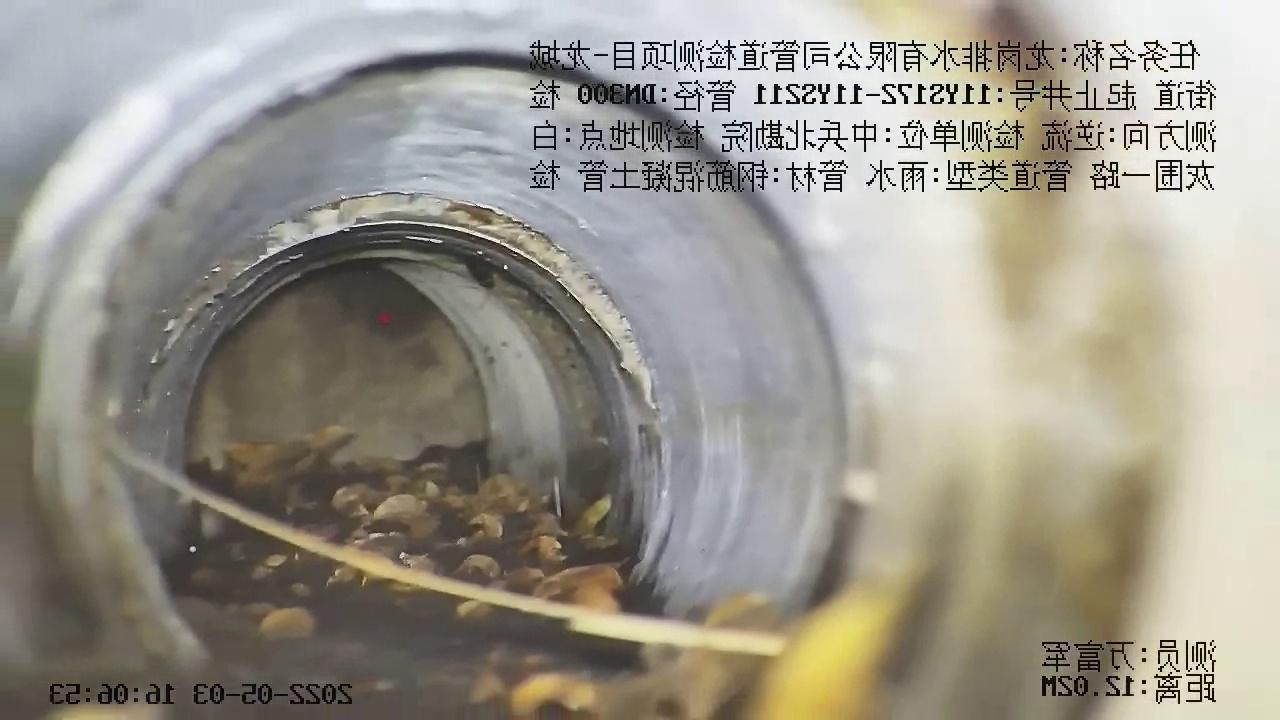CKTJ: (160, 192, 658, 409)
